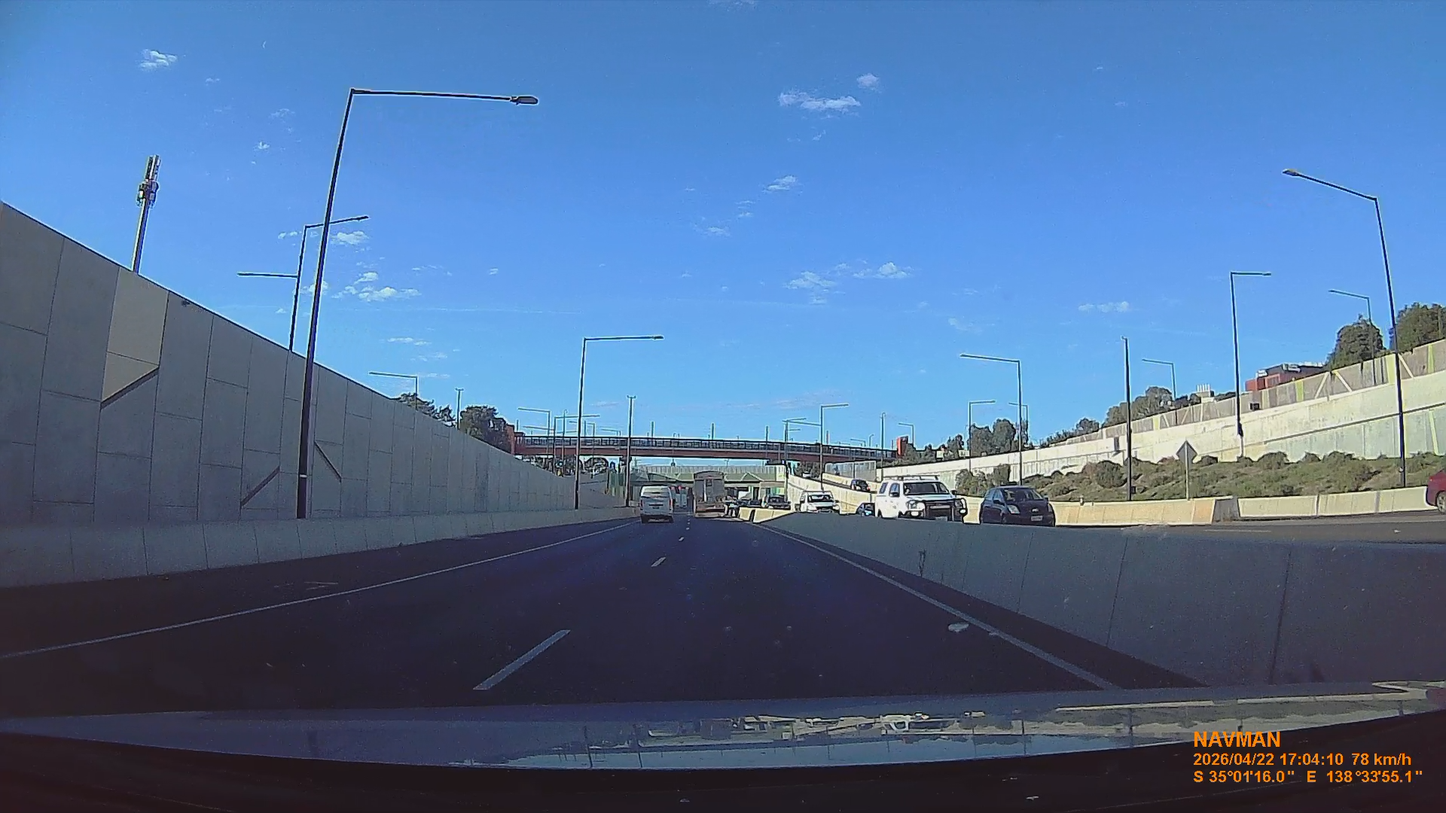fences: (972, 733, 1028, 754)
road barriers: (773, 515, 1445, 685), (0, 507, 598, 587)
